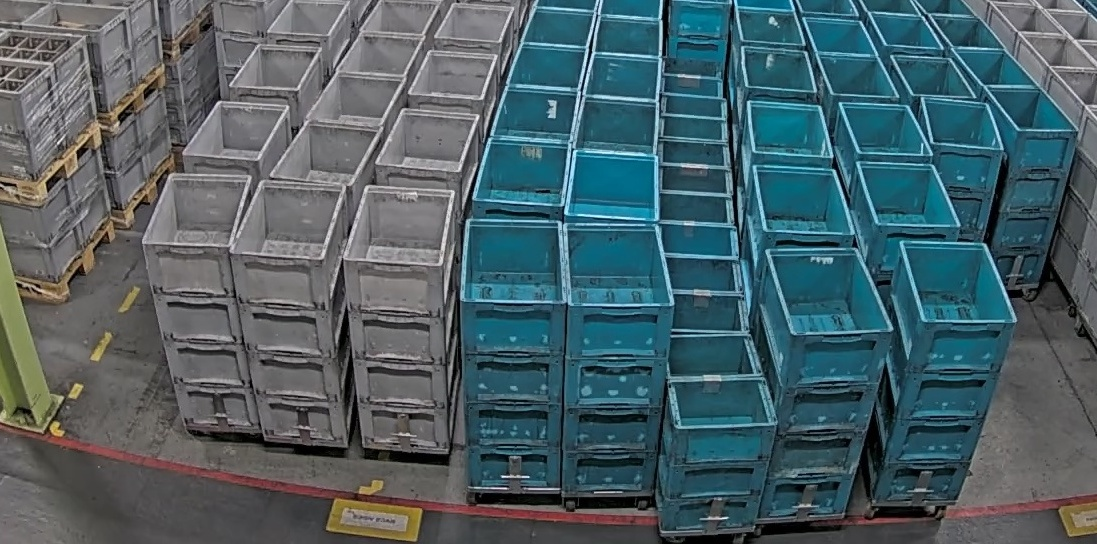4G: (230, 177, 358, 444), (140, 171, 264, 431), (341, 182, 460, 452)
B4: (864, 239, 1018, 503), (749, 247, 895, 519), (561, 222, 677, 494), (459, 217, 570, 491), (918, 94, 1007, 243)
B8: (656, 332, 779, 533)
